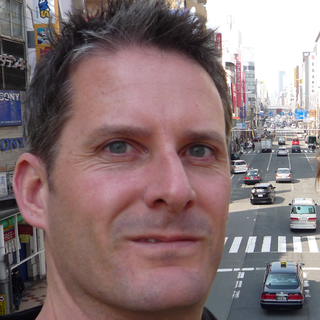eye: (92, 134, 145, 160), (177, 138, 219, 164)
